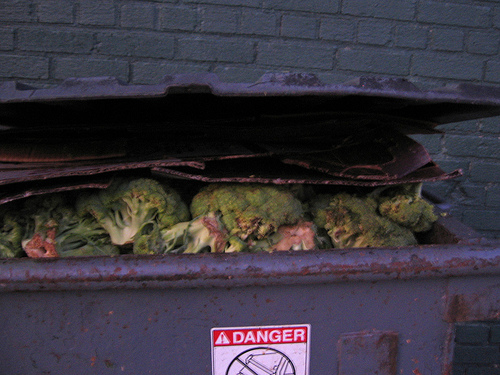broccoli: (188, 179, 304, 250), (81, 179, 183, 244), (379, 193, 443, 235)
